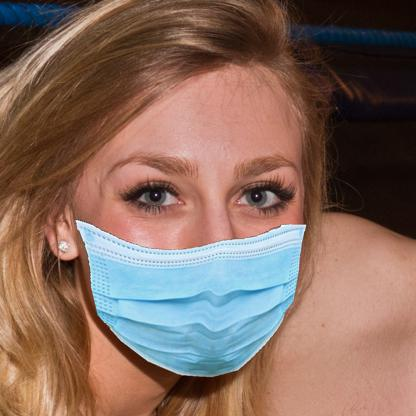mask: (68, 214, 315, 378)
